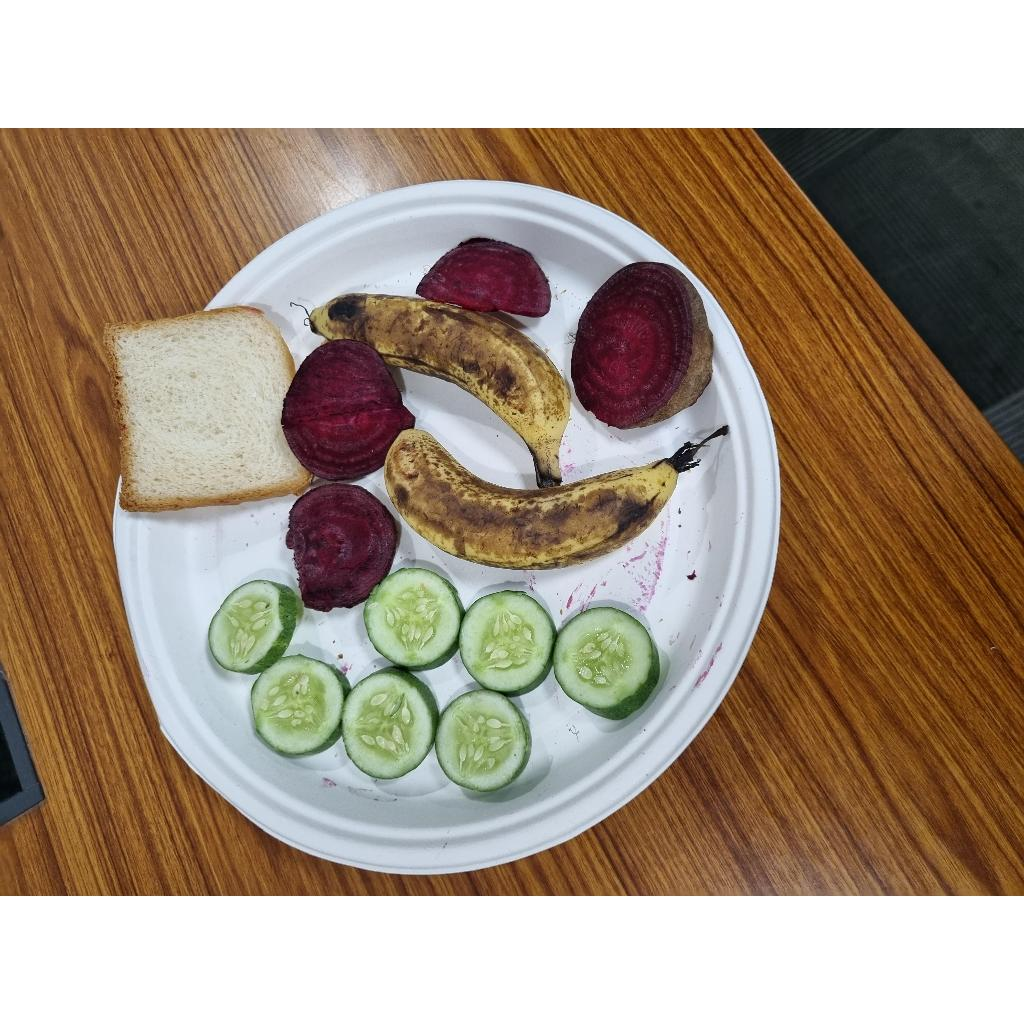banana: (310, 294, 570, 486), (385, 429, 679, 570)
